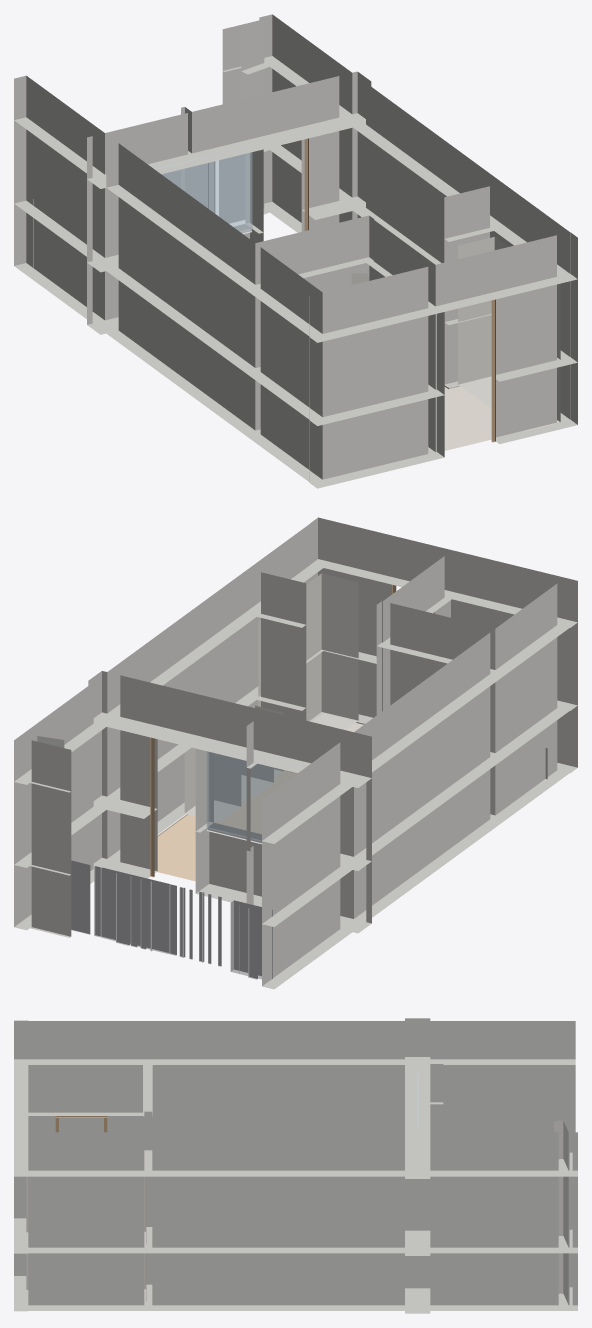
3 renders of one model, top to bottom at view 1: azimuth 30°, elevation 25°; view 2: azimuth 150°, elevation 25°; view 3: azimuth 270°, elevation 25°, orthographic. The views are drawn at different scales.
Parts seen in each view (by area): view 1: walls, furniture_0_closet, window_2, railings, floor_1_Entry, door_0; view 2: walls, railings, furniture_0_closet, window_2, floor_0_Living_Room, furniture_2_appliance, furniture_3_appliance, door_1; view 3: walls, furniture_0_closet.
Boxes of the visible parts, x1=… form: walls: x1=14, y1=14, x2=577, y2=488; furniture_0_closet: x1=458, y1=236, x2=560, y2=431; window_2: x1=155, y1=145, x2=252, y2=231; railings: x1=33, y1=154, x2=244, y2=268; floor_1_Entry: x1=444, y1=385, x2=491, y2=450; door_0: x1=449, y1=299, x2=495, y2=442; walls: x1=14, y1=517, x2=577, y2=989; railings: x1=71, y1=860, x2=272, y2=980; furniture_0_closet: x1=258, y1=573, x2=358, y2=730; window_2: x1=206, y1=751, x2=302, y2=841; floor_0_Living_Room: x1=157, y1=770, x2=296, y2=881; furniture_2_appliance: x1=184, y1=747, x2=240, y2=821; furniture_3_appliance: x1=241, y1=760, x2=273, y2=802; door_1: x1=150, y1=737, x2=154, y2=877; walls: x1=14, y1=1018, x2=577, y2=1313; furniture_0_closet: x1=26, y1=1176, x2=146, y2=1300.
Bounding box in the file's own units: 4.08 × 2.72 × 7.97.
